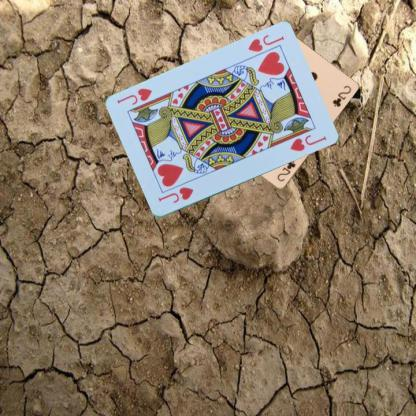2c: (274, 158, 297, 183)
Jh: (245, 32, 285, 54), (155, 184, 195, 204)
